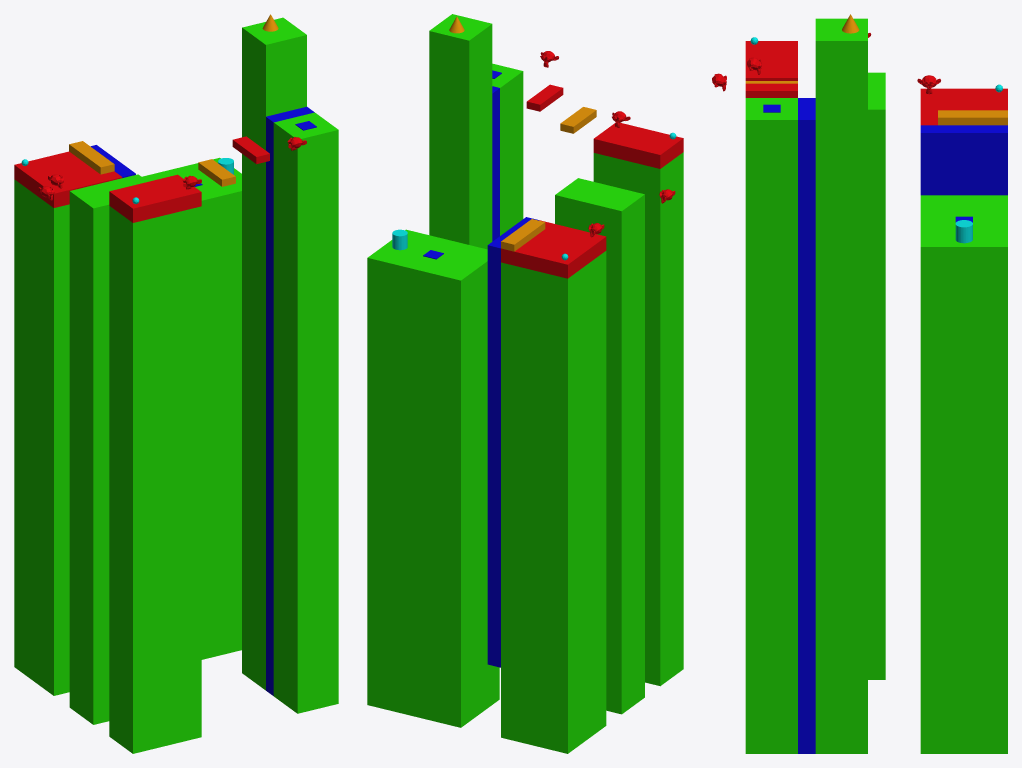
3 views of the same model, side by side, from view 1: azimuth 30°, elevation 25°; view 2: azimuth 150°, elevation 25°; view 3: azimuth 270°, elevation 25° (orthographic). The views are drawn at different scales.
Visible parts, largest first — view 1: Cube.682, Cube.002, Cube.391, Cube.516, Cube.254, Cube.001, Cube.027, Cube.692, Cube.412, Cube.2023, Cube.2025, Cube.2029; view 2: Cube.254, Cube.391, Cube.516, Cube.682, Cube.001, Cube.307, Cube.002, Cube.412, Cube.692, Cube.027, Cube.2023, Cube.2029 (+1 smaller); view 3: Cube.254, Cube.001, Cube.002, Cube.027, Cube.516, Cube.307, Cube.412, Cube.692, Cube.2023, Cube.2029.
Boxes of the visible parts, left/top/right/bottom form: Cube.682: left=109, top=206, right=201, bottom=753; Cube.002: left=273, top=112, right=338, bottom=713; Cube.391: left=14, top=179, right=69, bottom=695; Cube.516: left=69, top=174, right=147, bottom=724; Cube.254: left=142, top=157, right=241, bottom=659; Cube.001: left=242, top=17, right=306, bottom=690; Cube.027: left=266, top=106, right=314, bottom=695; Cube.692: left=109, top=174, right=201, bottom=222; Cube.412: left=14, top=151, right=122, bottom=207; Cube.2023: left=69, top=141, right=114, bottom=174; Cube.2025: left=198, top=159, right=235, bottom=186; Cube.2029: left=232, top=136, right=269, bottom=164; Cube.254: left=367, top=229, right=499, bottom=727; Cube.391: left=501, top=251, right=606, bottom=753; Cube.516: left=555, top=178, right=644, bottom=714; Cube.682: left=593, top=152, right=683, bottom=686; Cube.001: left=429, top=14, right=492, bottom=249; Cube.307: left=487, top=217, right=539, bottom=667; Cube.002: left=492, top=63, right=523, bottom=235; Cube.412: left=501, top=220, right=606, bottom=278; Cube.692: left=593, top=123, right=683, bottom=168; Cube.027: left=492, top=86, right=499, bottom=241; Cube.2023: left=501, top=219, right=545, bottom=251; Cube.2029: left=526, top=84, right=563, bottom=111; Cube.254: left=920, top=195, right=1007, bottom=753; Cube.001: left=815, top=18, right=867, bottom=753; Cube.002: left=745, top=98, right=797, bottom=753; Cube.027: left=798, top=98, right=815, bottom=753; Cube.516: left=868, top=72, right=885, bottom=679; Cube.307: left=920, top=125, right=1007, bottom=195; Cube.412: left=920, top=88, right=1007, bottom=125; Cube.692: left=745, top=41, right=797, bottom=80; Cube.2023: left=938, top=110, right=1007, bottom=125; Cube.2029: left=745, top=83, right=797, bottom=97.
Bounding box in the file's own units: 3585 × 9200 × 3385.
